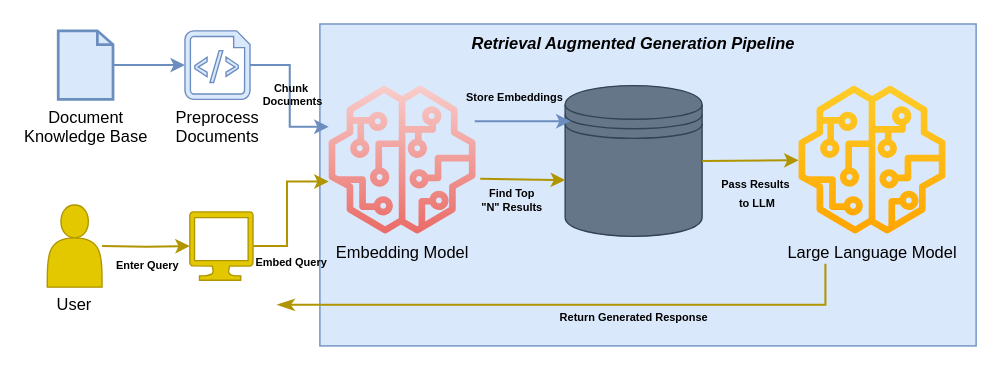
The diagram is 1000 pixels wide and 370 high, and some of its shapes have lost their labels. Here are the shapes that lost their labels. From the top down, the centre of each, then its label:
(633,160): Vector Database
(220,245): Application Interface
